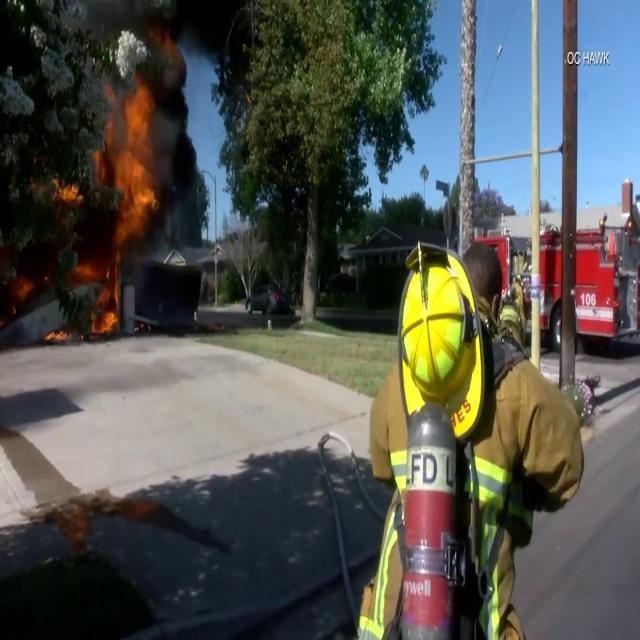Fire: (84, 85, 162, 331)
Smoke: (138, 5, 208, 261)
